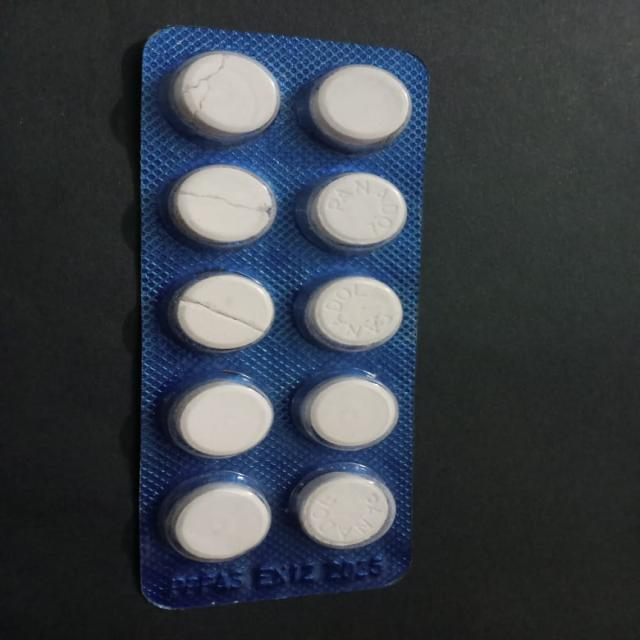defect: (161, 49, 285, 148), (160, 160, 282, 257), (160, 267, 280, 358)
